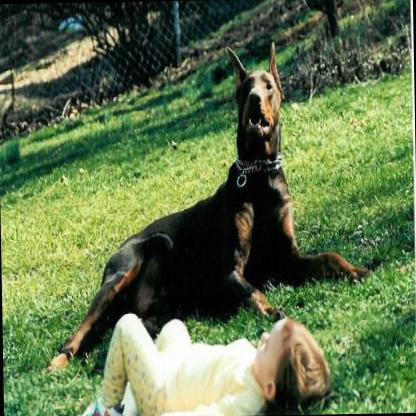Doberman: (25, 29, 368, 315)
